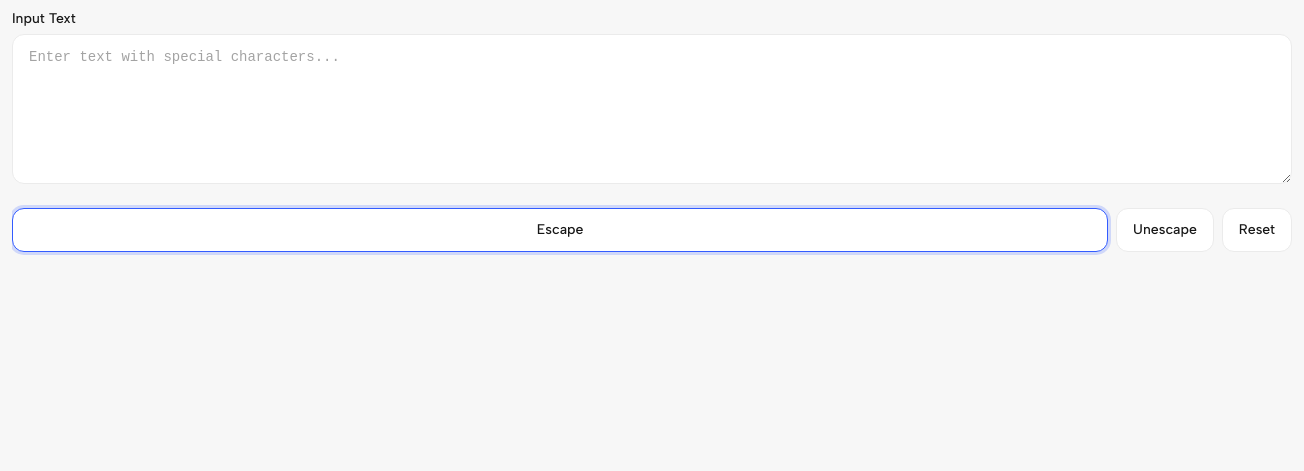
Test: EscapeUnescapeTool › unescapes newlines correctly
Step 1. Type "Line1\\nLine2" into the text box with placeholder "Enter text with special characters..." → (652, 109), box [12,34,1292,184]
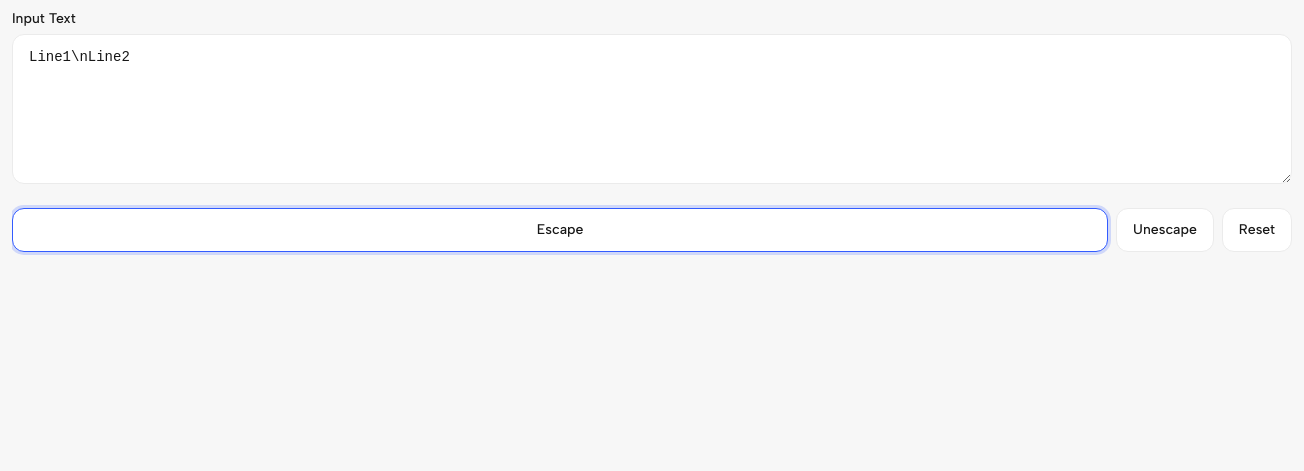
Step 2. Click the button "Unescape" → (1165, 230), box [1116,208,1214,252]
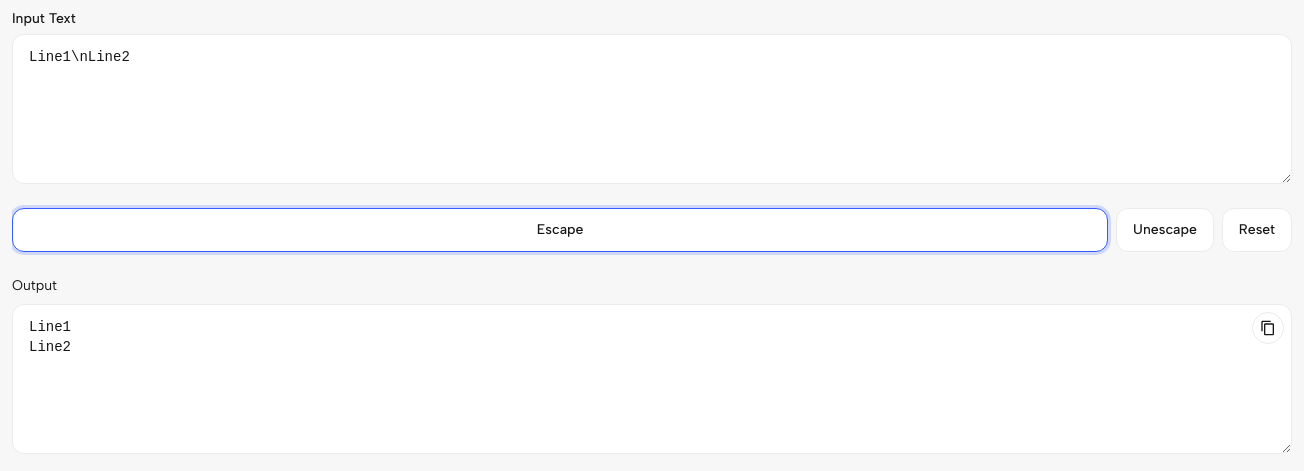
Result: the text "Output" is shown at [12,277,57,294]
